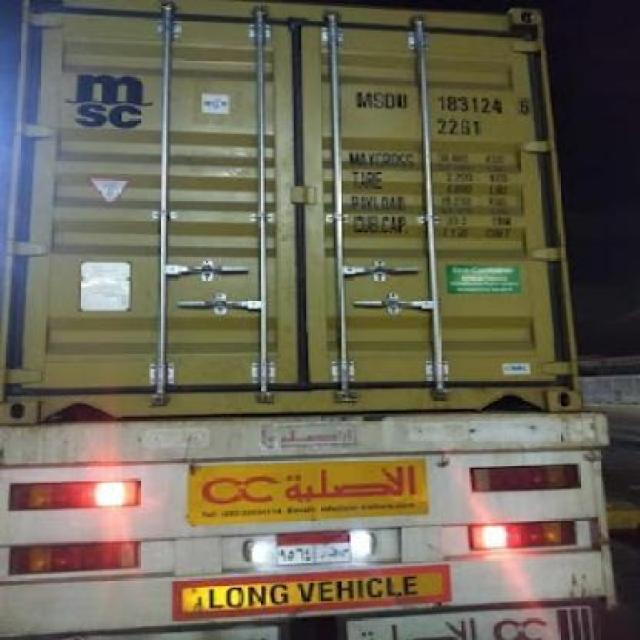ISO: (438, 115, 482, 136)
container_number: (360, 92, 526, 116)
